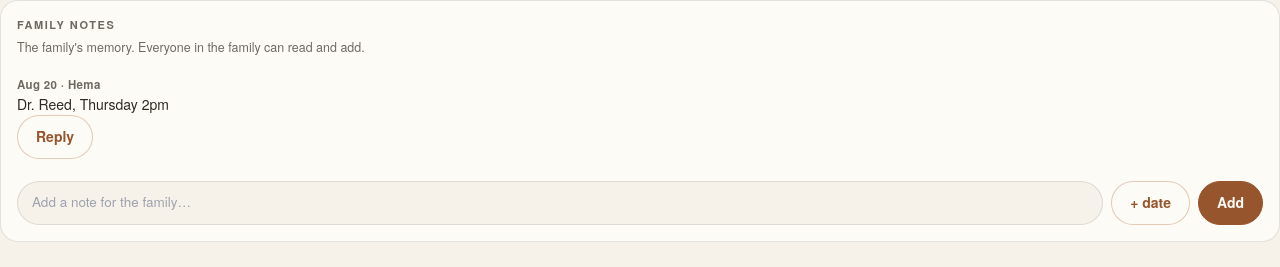
Test: the Reply link and composer › submits the body and the signed-as author against the note, then closes
This screenshot has width=1280, height=267.
Click the button with test id "reply-link" at (55, 136), box 17,114 -> 93,158
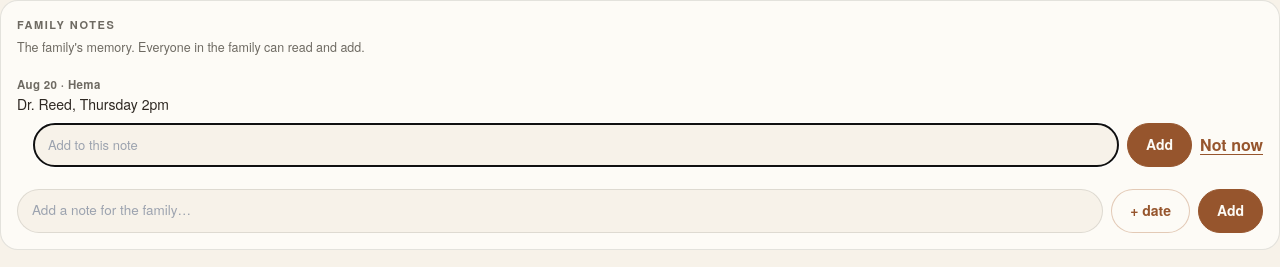
Type "  Next visit Oct 2 " into the field with test id "reply-input" at (576, 144), box 33,122 -> 1119,166
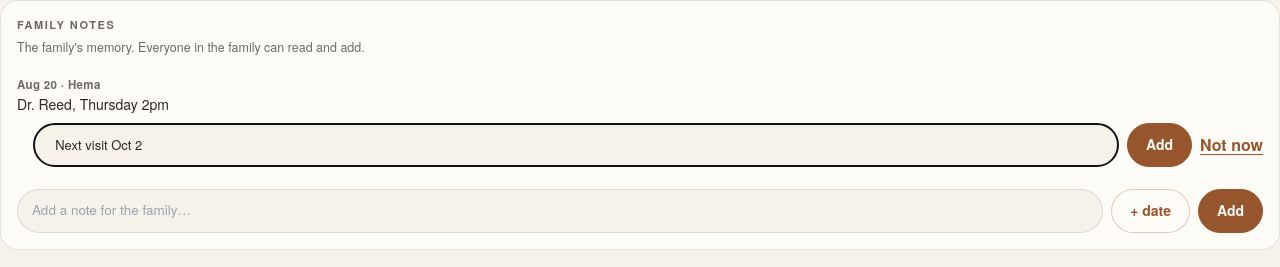
Press Enter in the field with test id "reply-input", box 33,122 -> 1119,166
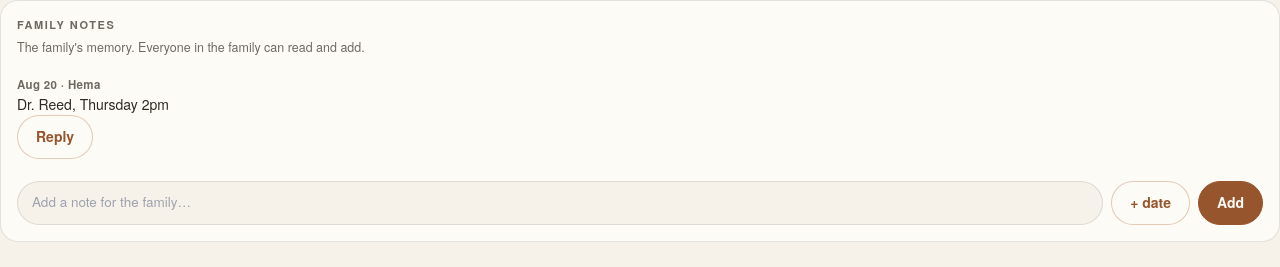
Now the element with test id "reply-composer" is gone
